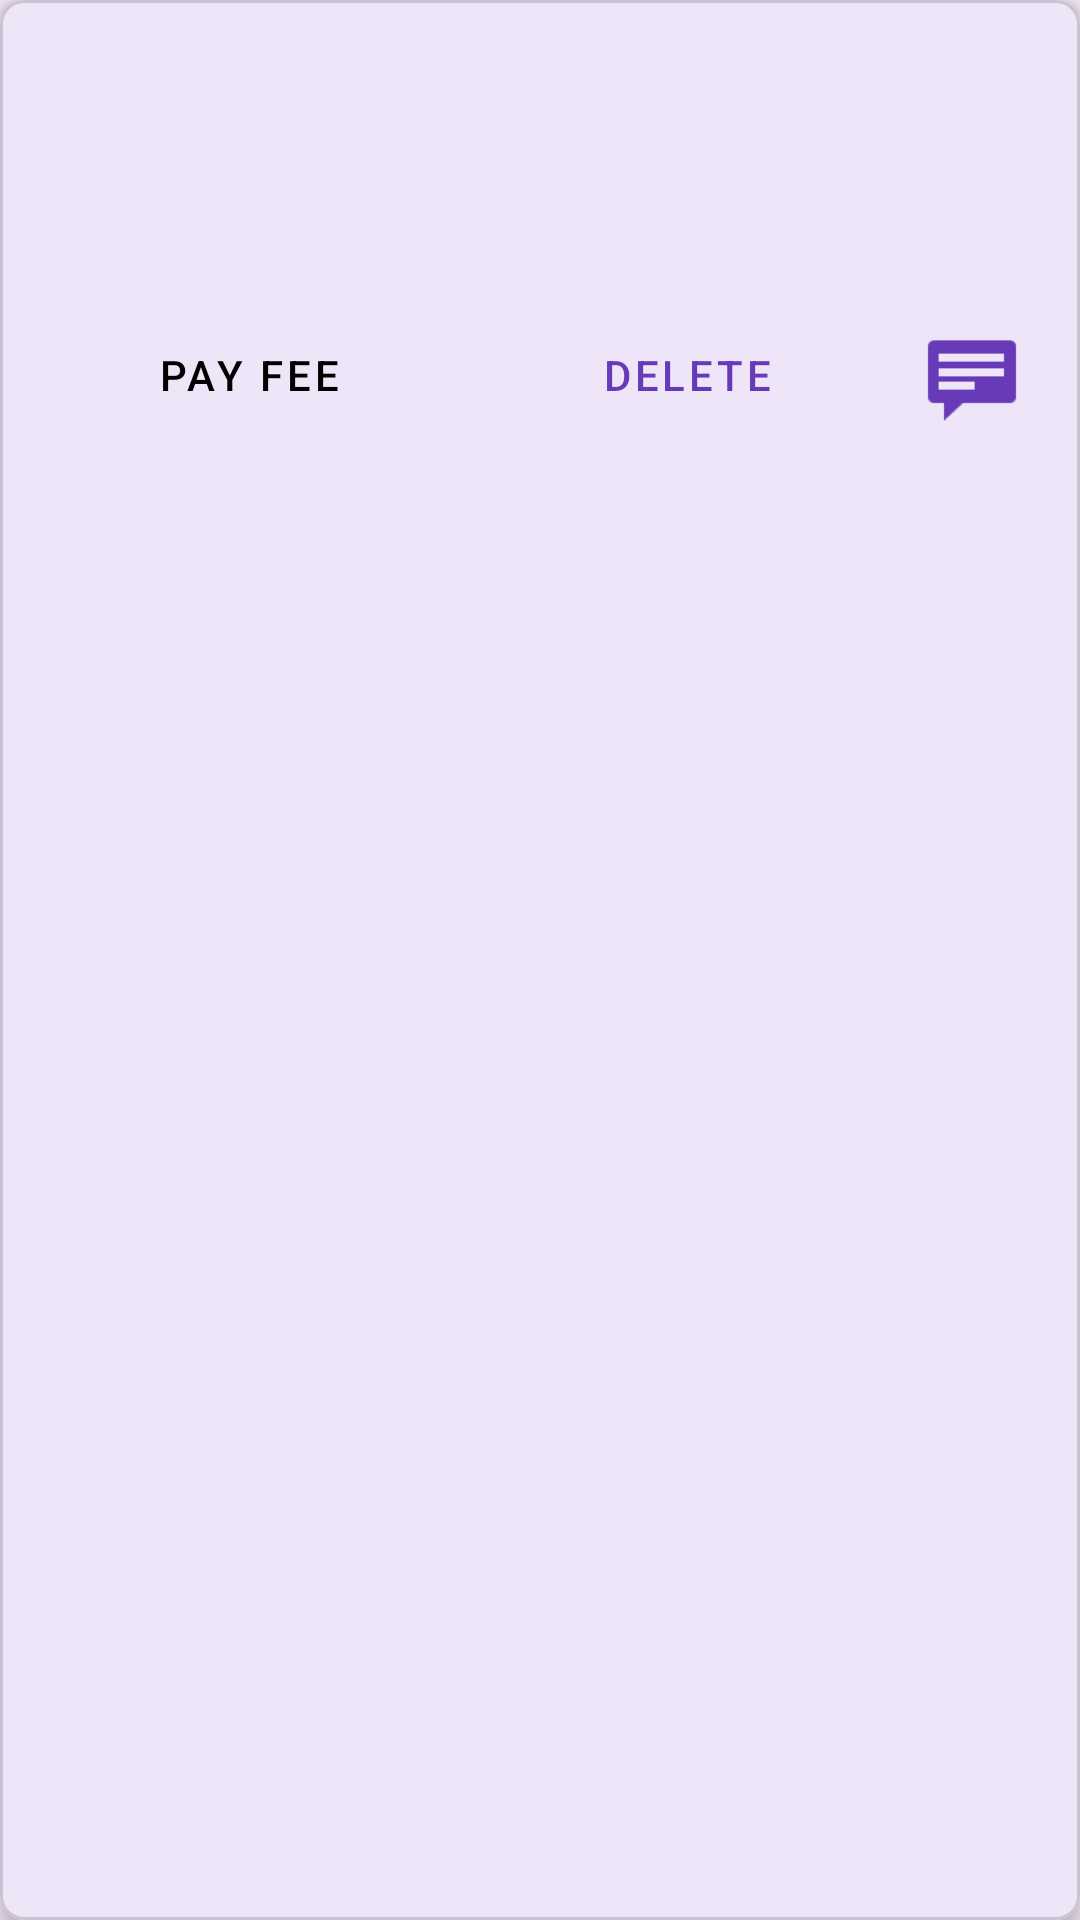

Icon click points for this 1080 x 1920 phone screenshot, format [x,y]:
chat: [972,380]
